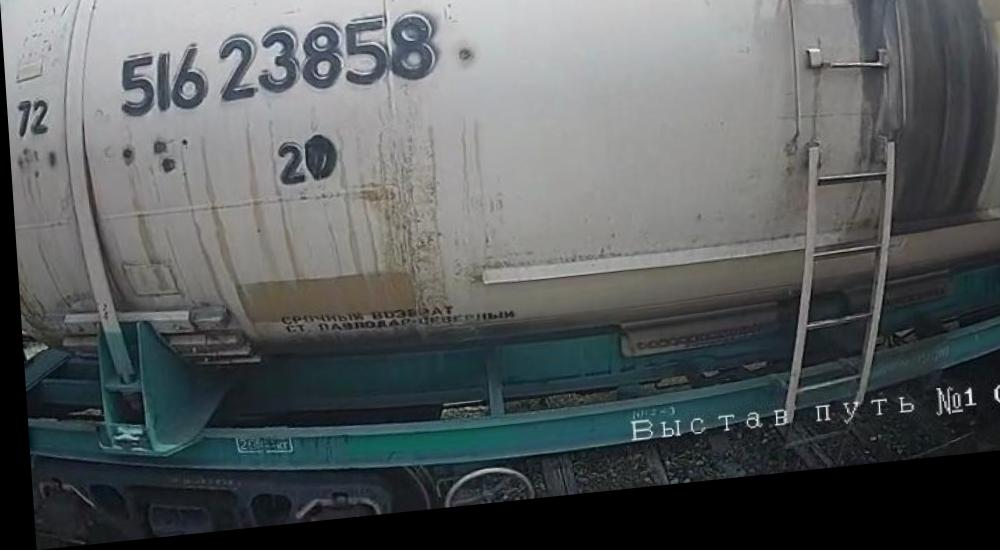Wagon-number: (108, 14, 442, 129)
